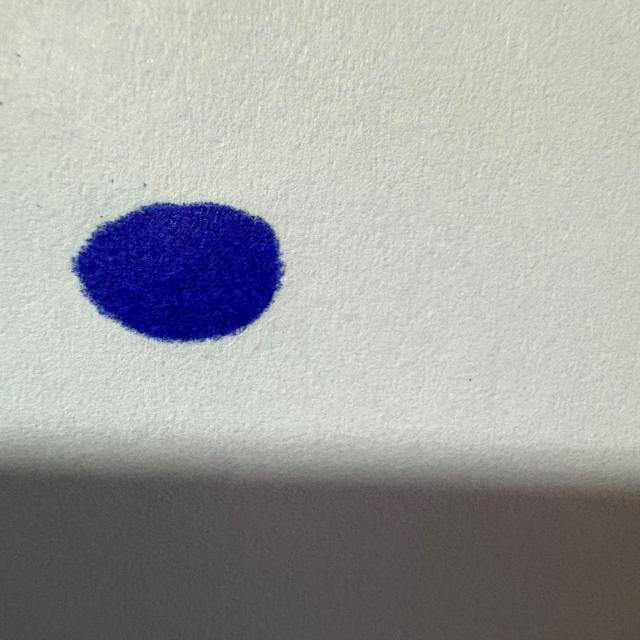Circle: (59, 198, 300, 352)
